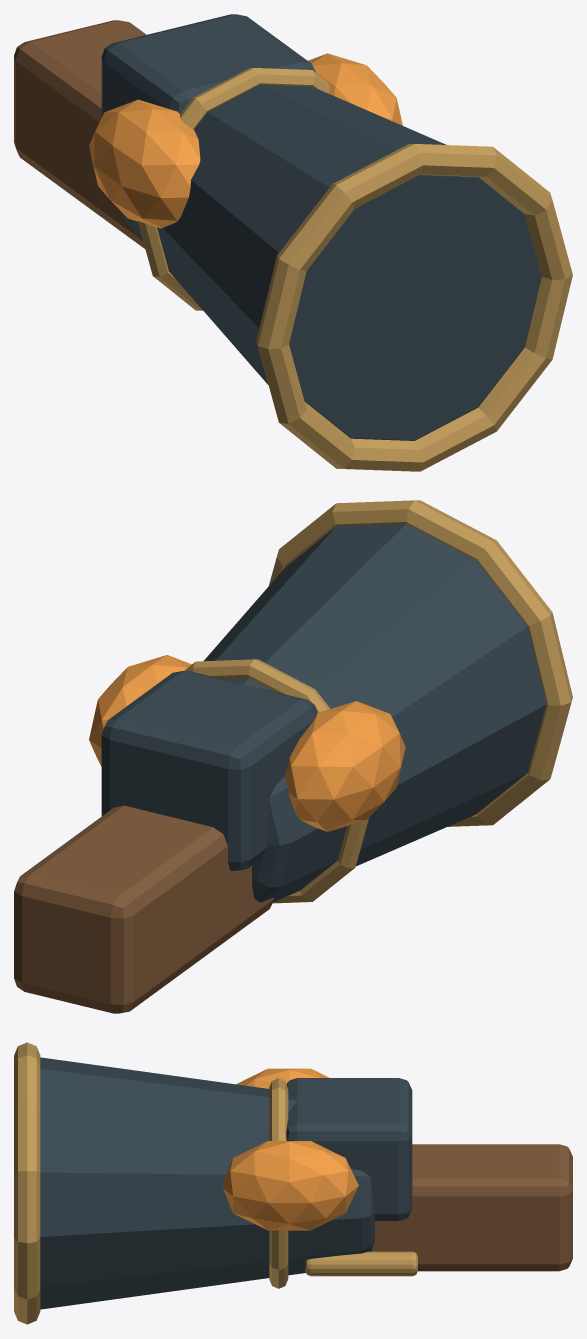
File: weapon_handcannon.glb
The picture shows the model from 3 angles, top to bottom: view 1: azimuth 30°, elevation 25°; view 2: azimuth 150°, elevation 25°; view 3: azimuth 270°, elevation 25°; orthographic projection. The views are drawn at different scales.
Visible parts, largest first — view 1: Barrel, FlaredMuzzle, CarvedStock, PowderChamber; view 2: Barrel, CarvedStock, FlaredMuzzle, PowderChamber; view 3: Barrel, CarvedStock, FlaredMuzzle, PowderChamber.
Boxes of the visible parts, x1=… form: Barrel: x1=101, y1=14, x2=541, y2=440; FlaredMuzzle: x1=138, y1=68, x2=572, y2=471; CarvedStock: x1=14, y1=20, x2=146, y2=248; PowderChamber: x1=89, y1=53, x2=402, y2=228; Barrel: x1=101, y1=524, x2=546, y2=902; CarvedStock: x1=14, y1=805, x2=274, y2=1013; FlaredMuzzle: x1=184, y1=500, x2=572, y2=903; PowderChamber: x1=89, y1=655, x2=405, y2=831; Barrel: x1=40, y1=1057, x2=412, y2=1309; CarvedStock: x1=371, y1=1144, x2=572, y2=1271; FlaredMuzzle: x1=14, y1=1042, x2=417, y2=1324; PowderChamber: x1=223, y1=1068, x2=358, y2=1230.
Size of the model in its own units: 0.5295 by 0.5295 by 1.04.
